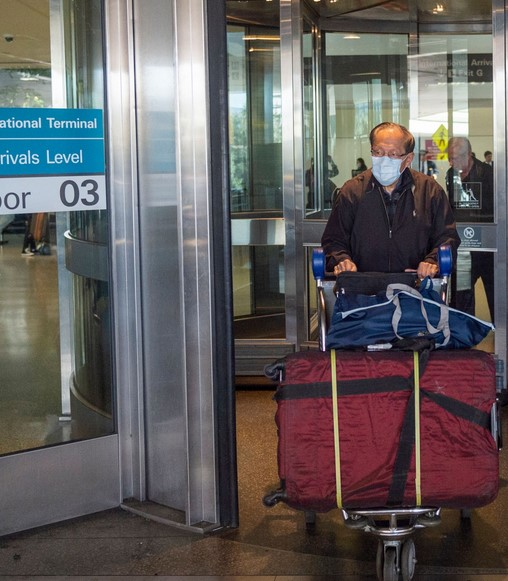face_with_mask: (369, 126, 414, 189)
